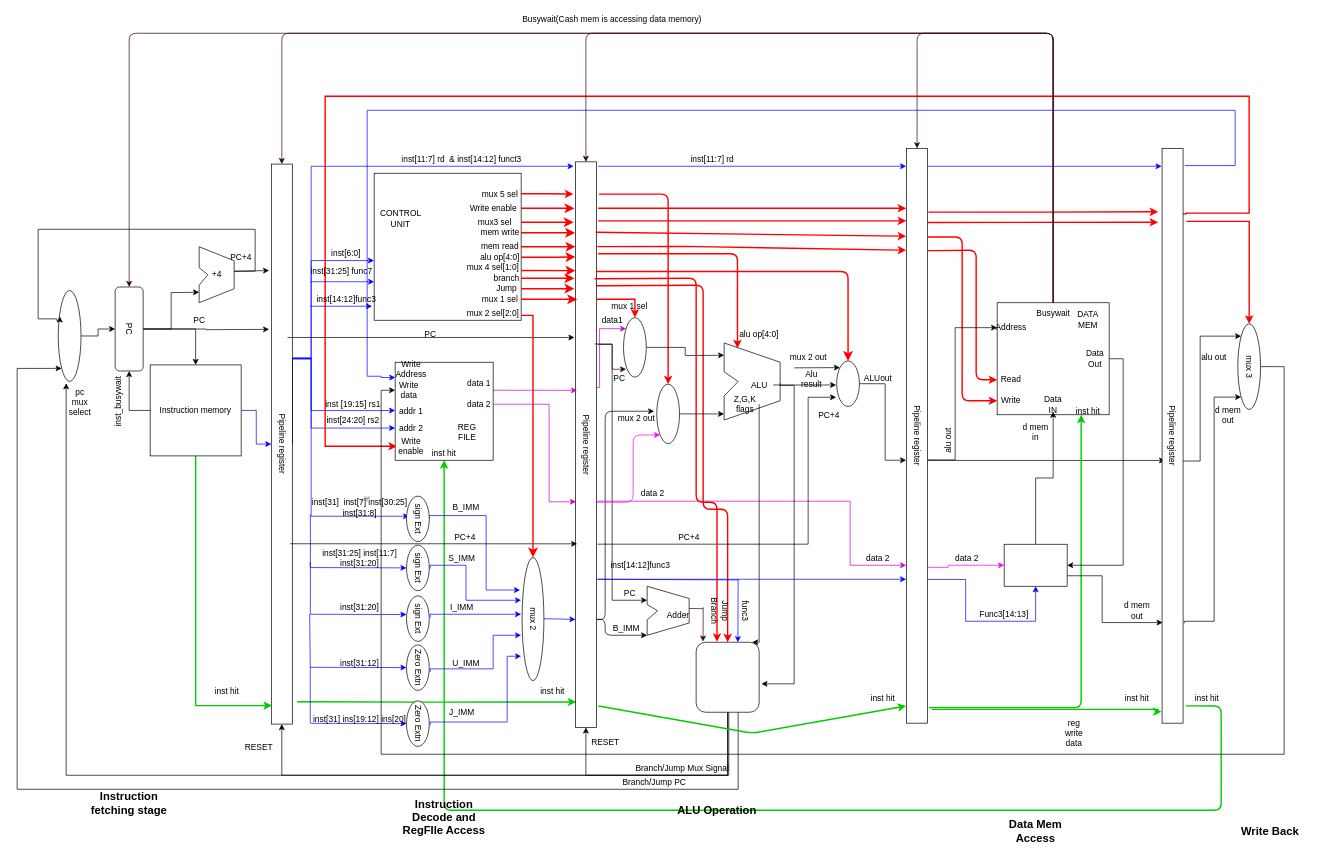
The diagram is 1324 pixels wide and 856 high, and some of its shapes have lost their labels. Each missing label, with the box of its shape:
Branch and Jump Unit: (695, 642, 759, 712)
Data refining module: (1003, 544, 1067, 586)
mux 1: (623, 317, 646, 377)
mux 4: (836, 360, 859, 406)
mux 5: (656, 383, 680, 444)
pc mux: (58, 290, 81, 382)
